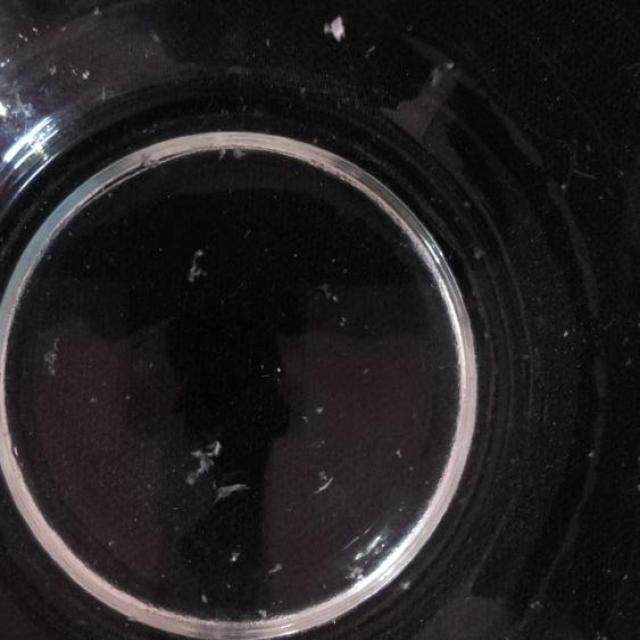fiber: (190, 444, 223, 482), (323, 16, 355, 48), (187, 247, 209, 285), (44, 346, 67, 382), (400, 573, 425, 594), (271, 557, 292, 579), (341, 566, 364, 584), (75, 70, 94, 90), (199, 586, 214, 603), (256, 603, 270, 619)
